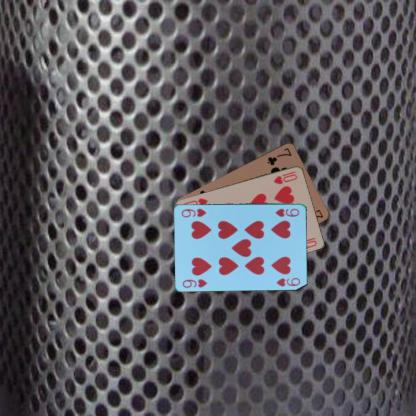10h: (271, 168, 298, 186)
7c: (265, 144, 293, 166)
9h: (180, 276, 209, 289), (273, 206, 300, 218)
